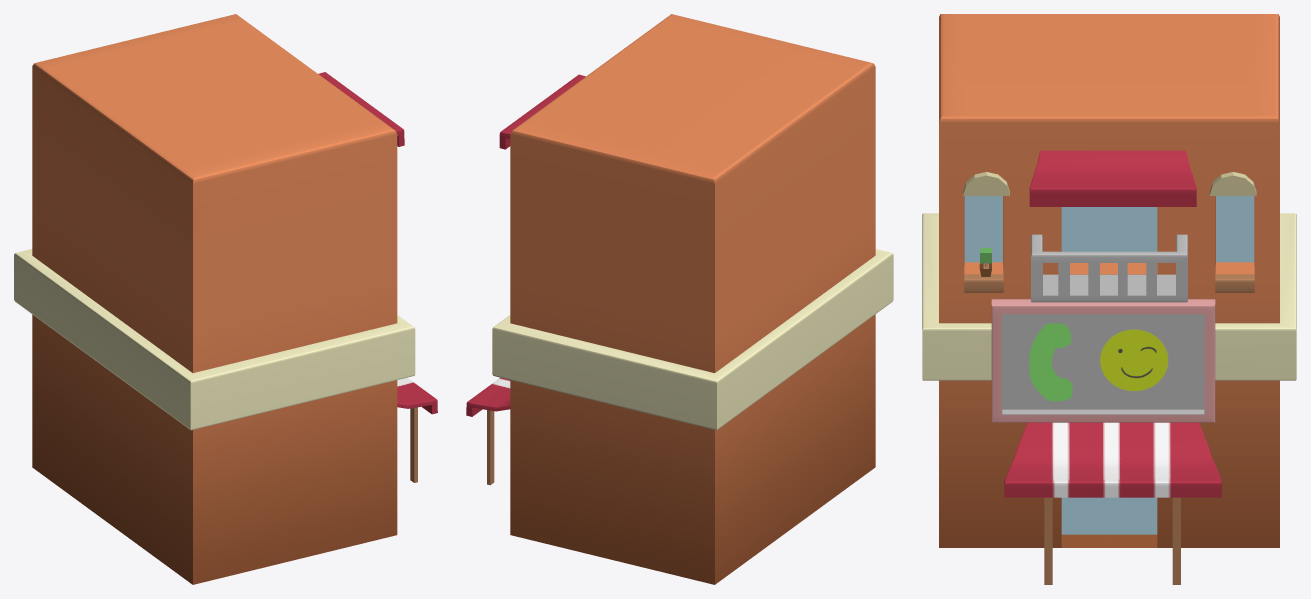
File: BuildingShort_01.fbx
3 renders of one model, left to right at view 1: azimuth 30°, elevation 25°; view 2: azimuth 150°, elevation 25°; view 3: azimuth 270°, elevation 25°, orthographic. The views are drawn at different scales.
Parts seen in each view (by area): view 1: polySurface699; view 2: polySurface699; view 3: polySurface699.
Part boxes in pixels (<box>): polySurface699: <box>14,14,437,584</box>; polySurface699: <box>466,14,893,584</box>; polySurface699: <box>922,14,1296,584</box>.
Size of the model in its own units: 4.22 by 5.73 by 4.52.
